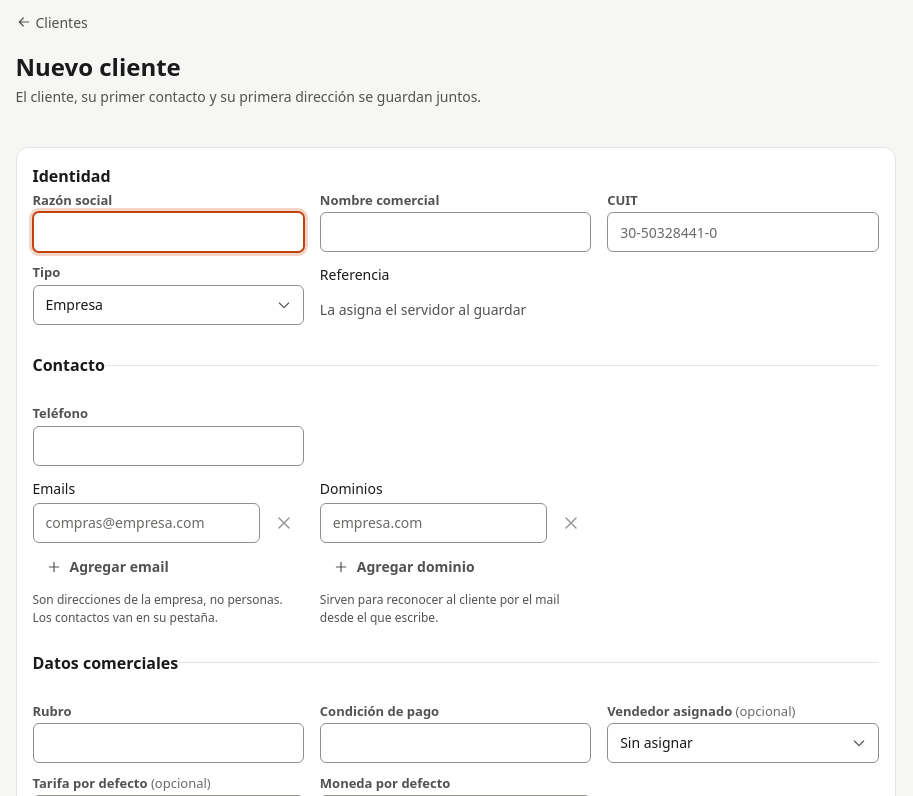
Test: Alta de cliente · duplicados › un nombre parecido avisa y deja crear igual
This screenshot has width=913, height=796.
Type "ZZ Alfa S.A." into the field labelled "Razón social" at (168, 232), box [32,212,304,252]
(page scrolled)
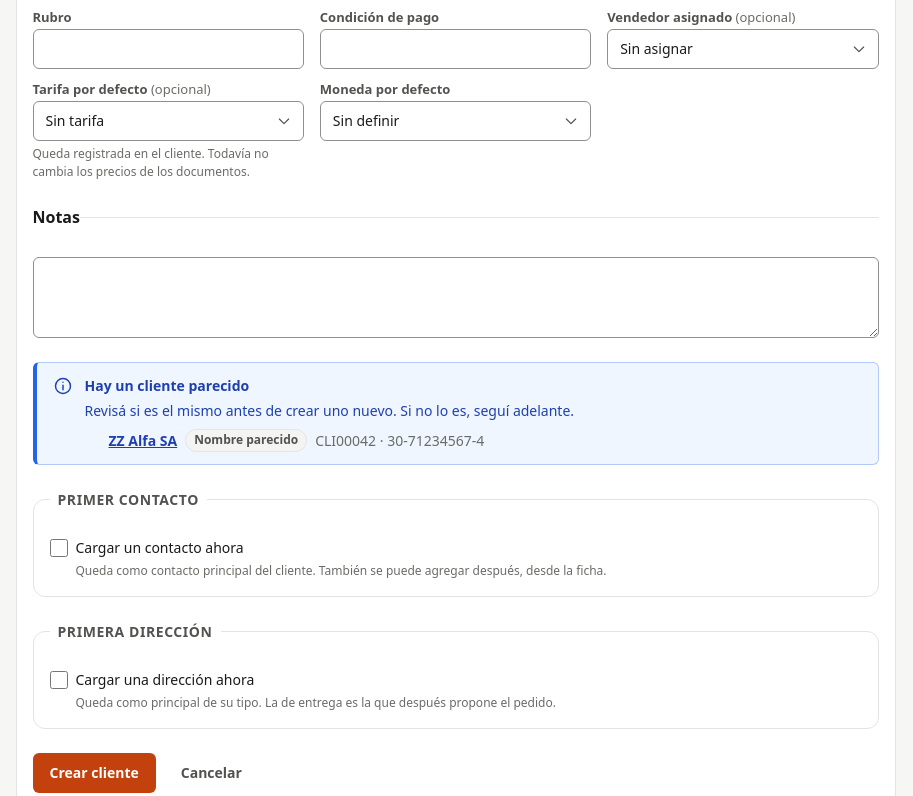
Check: the message shows "Hay un cliente parecido", box [84,376,249,395]
Check: the button "Crear cliente" is enabled, box [32,753,156,793]
